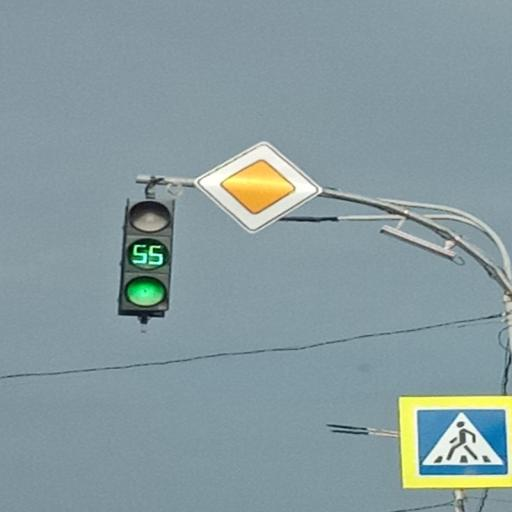pole: (118, 178, 174, 324)
